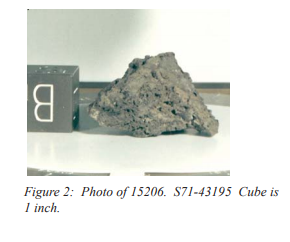Breccia: (80, 31, 220, 154)
